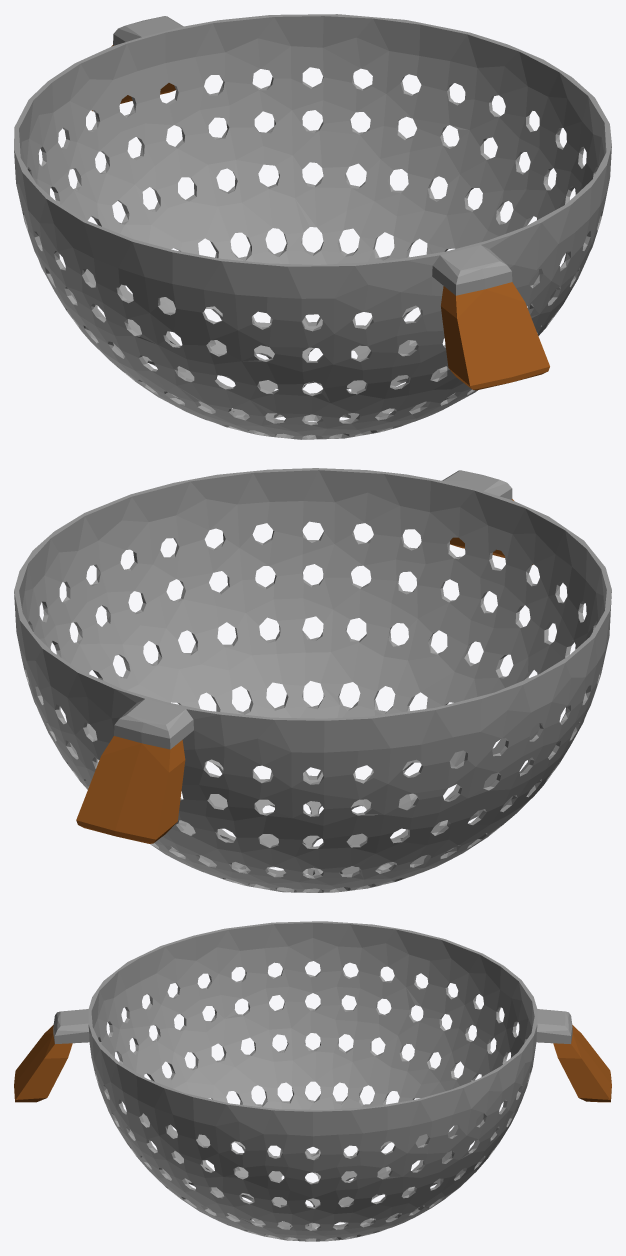
File: cediljka.fbx
The picture shows the model from 3 angles, top to bottom: view 1: azimuth 30°, elevation 25°; view 2: azimuth 150°, elevation 25°; view 3: azimuth 270°, elevation 25°; orthographic projection. The views are drawn at different scales.
Parts seen in each view (by area): view 1: Sphere; view 2: Sphere; view 3: Sphere.
Boxes of the visible parts, box(x1,y1,x2,y2) form: Sphere: box(14, 14, 611, 439); Sphere: box(14, 468, 611, 892); Sphere: box(14, 921, 611, 1241).
Bounding box in the file's own units: 200 × 100 × 265.
